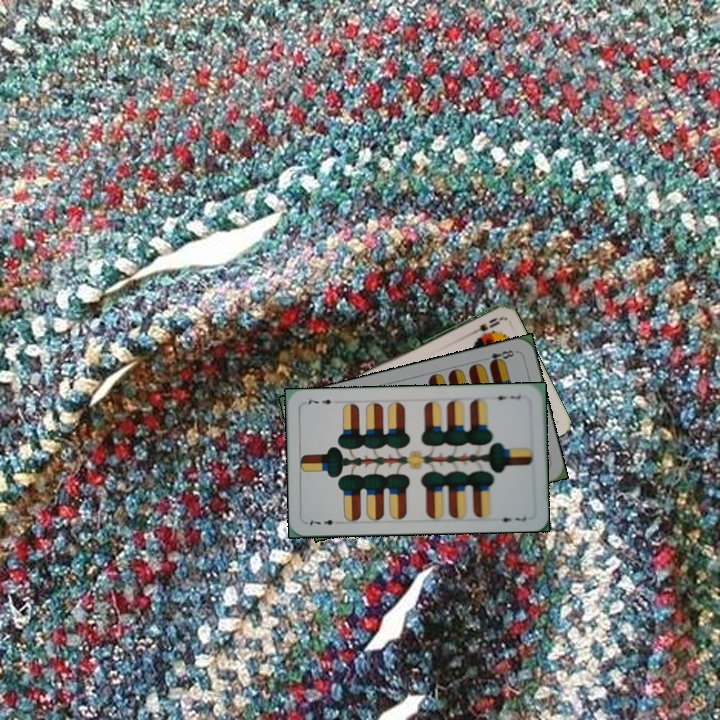E7: (303, 515, 344, 528), (489, 391, 523, 403)
E8: (479, 346, 519, 368)
SO: (464, 313, 503, 339)
